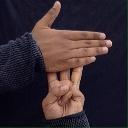hand: (31, 0, 112, 73), (42, 64, 87, 121)
